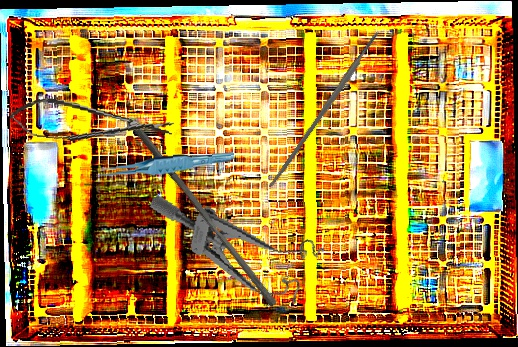Micro Scissor: (8, 94, 175, 153)
Pusher: (119, 117, 284, 308)
Scalpel Handle: (267, 30, 382, 190)
Speculum: (134, 193, 331, 309)
Tissue Forceps: (93, 150, 235, 179)
